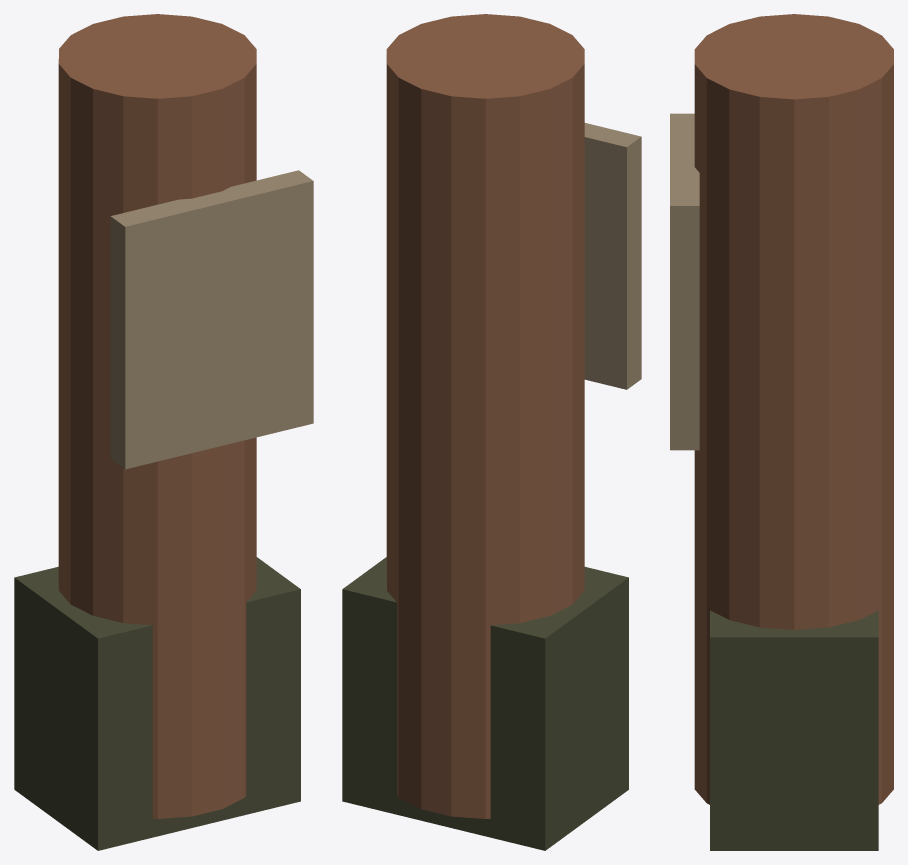
File: fps_left_forearm_bandage_target.obj
The picture shows the model from 3 angles, left to right: view 1: azimuth 30°, elevation 25°; view 2: azimuth 150°, elevation 25°; view 3: azimuth 270°, elevation 25°; orthographic projection.
Visible parts, largest first — view 1: fps_left_forearm_bandage_target; view 2: fps_left_forearm_bandage_target; view 3: fps_left_forearm_bandage_target.
Boxes of the visible parts, box(x1,y1,x2,y2) form: fps_left_forearm_bandage_target: box(14, 14, 313, 850); fps_left_forearm_bandage_target: box(342, 14, 641, 850); fps_left_forearm_bandage_target: box(670, 14, 893, 850).
Size of the model in its own units: 0.28 by 0.975 by 0.2657.
